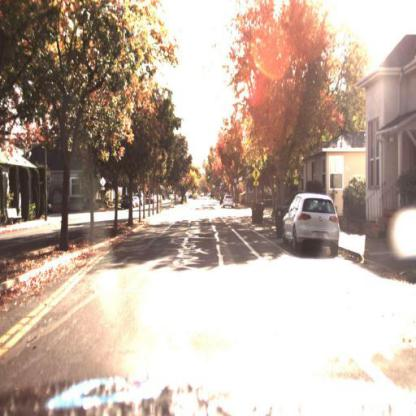car: (276, 194, 342, 256), (220, 193, 238, 214)
